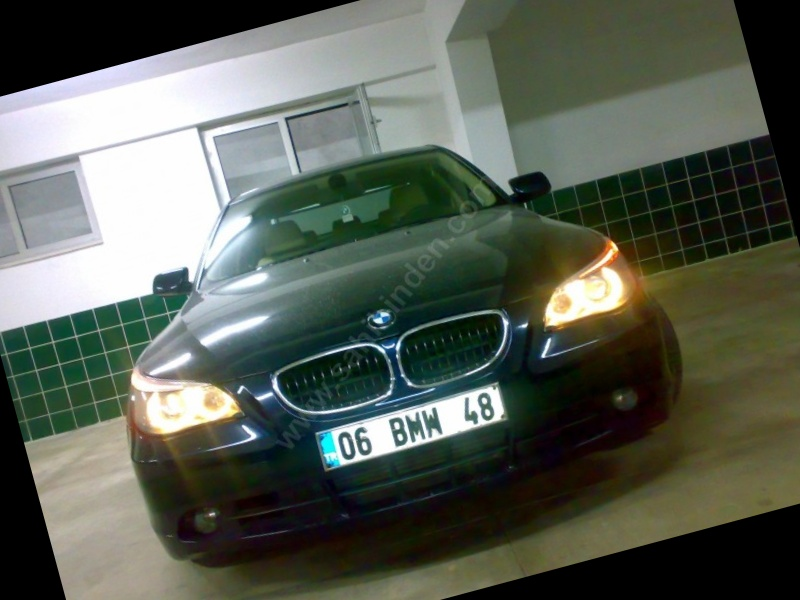plaka: (332, 391, 506, 461)
